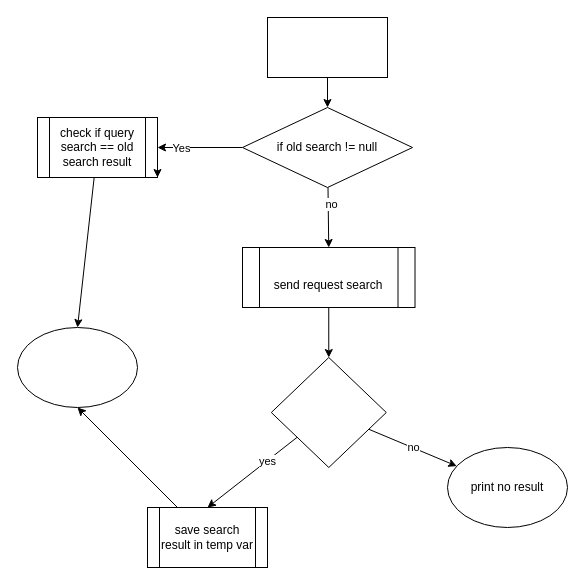
Some shapes in this 585 by 585 pixel diagram are drawn without their labels. The shapes that lost their labels are listed below. From the top down, each one's box as (x1, y1, x2, y2) in pixels, then its label:
(266, 16, 388, 78): search
(16, 326, 138, 408): show search result
(270, 356, 386, 468): if result != null
